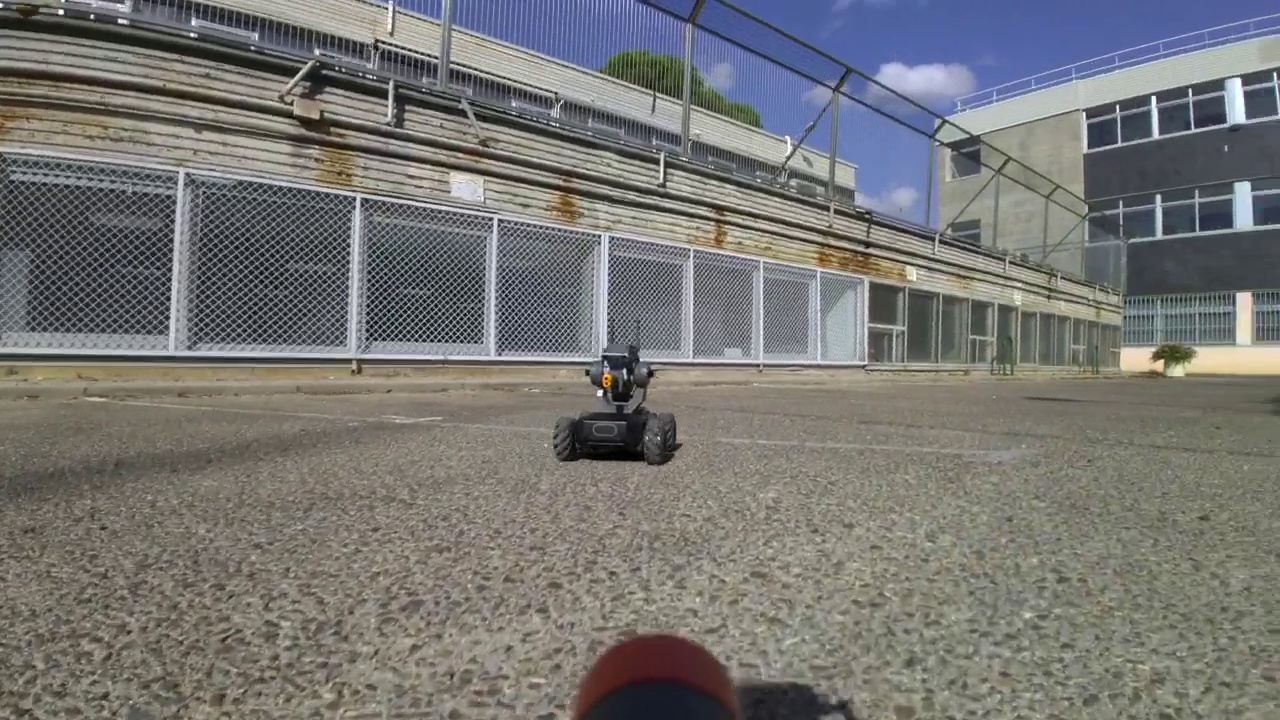robot: (554, 318, 676, 464)
